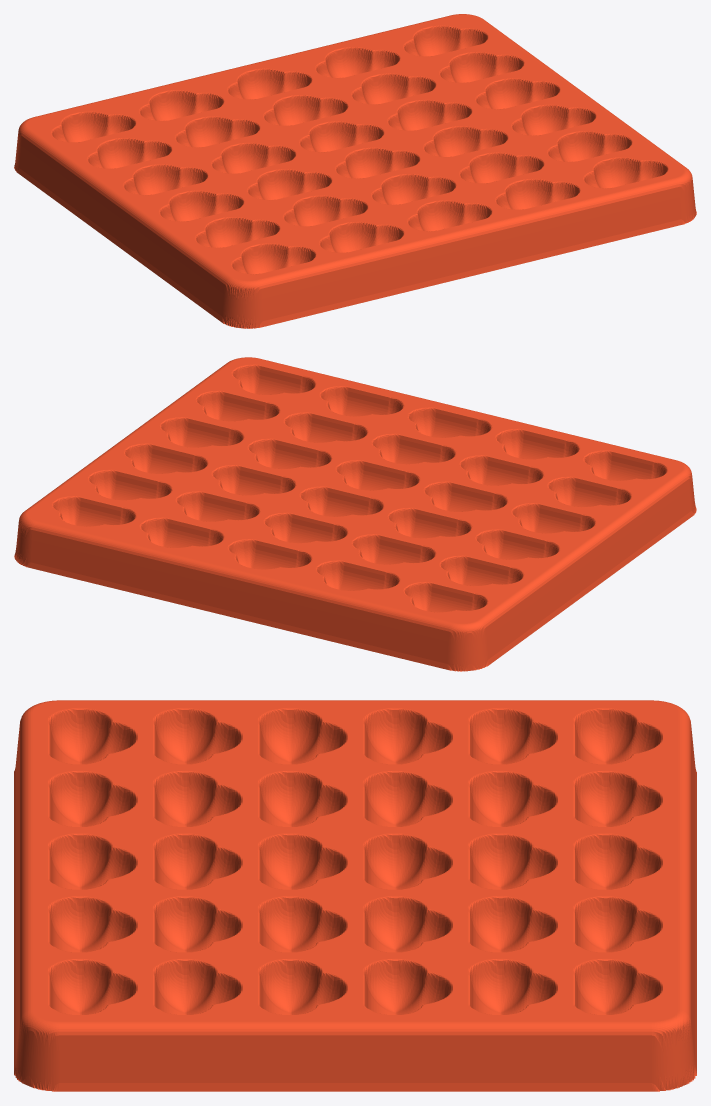
The model's file is mold.glb.
3 views of the same model, one above another, from view 1: azimuth 30°, elevation 25°; view 2: azimuth 150°, elevation 25°; view 3: azimuth 270°, elevation 25° (orthographic). The views are drawn at different scales.
Visible parts, largest first — view 1: geometry_0; view 2: geometry_0; view 3: geometry_0.
Part boxes in pixels (x1,y1,x2,y2): geometry_0: [14, 14, 696, 328]; geometry_0: [14, 357, 696, 671]; geometry_0: [14, 700, 696, 1091].
Bounding box in the file's own units: 0.1581 × 0.0136 × 0.136.
